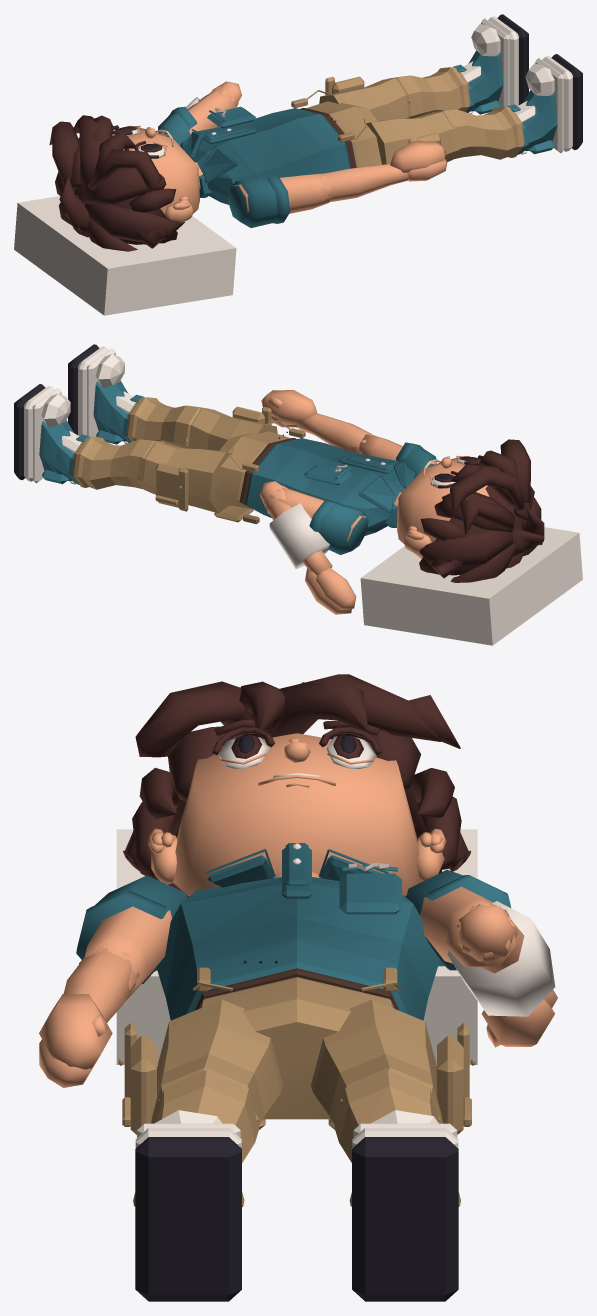
3 renders of one model, top to bottom at view 1: azimuth 30°, elevation 25°; view 2: azimuth 150°, elevation 25°; view 3: azimuth 270°, elevation 25°, orthographic. The views are drawn at different scales.
Visible parts, largest first — view 1: restCushion_pal_picketWhite, head_pal_hairChestnut.001, torso_pal_polo.001, shinR_pal_khaki.001, head_pal_skinWarm.001, legR_pal_khaki.001, footR_pal_picketWhite.001, shinL_pal_khaki.001, footL_pal_picketWhite.001, legL_pal_khaki.001, armR_pal_polo.001, hip_pal_khaki.001 (+11 smaller); view 2: restCushion_pal_picketWhite, head_pal_hairChestnut.001, torso_pal_polo.001, legL_pal_khaki.001, head_pal_skinWarm.001, shinL_pal_khaki.001, hip_pal_khaki.001, footL_pal_picketWhite.001, shinR_pal_khaki.001, footR_pal_picketWhite.001, legR_pal_khaki.001, armL_pal_polo.001 (+13 smaller); view 3: torso_pal_polo.001, head_pal_skinWarm.001, head_pal_hairChestnut.001, footL_pal_uiDark.001, footR_pal_uiDark.001, legR_pal_khaki.001, legL_pal_khaki.001, hip_pal_khaki.001, restCushion_pal_picketWhite, foreArmL_pal_picketWhite.001, handR_pal_skinWarm.001, shinR_pal_khaki.001 (+12 smaller).
Boxes of the visible parts, x1=… form: restCushion_pal_picketWhite: x1=14, y1=196, x2=236, y2=315; head_pal_hairChestnut.001: x1=49, y1=115, x2=184, y2=251; torso_pal_polo.001: x1=180, y1=106, x2=350, y2=204; shinR_pal_khaki.001: x1=432, y1=106, x2=524, y2=159; head_pal_skinWarm.001: x1=112, y1=125, x2=202, y2=222; legR_pal_khaki.001: x1=366, y1=112, x2=460, y2=181; footR_pal_picketWhite.001: x1=515, y1=56, x2=572, y2=154; shinL_pal_khaki.001: x1=387, y1=67, x2=470, y2=118; footL_pal_picketWhite.001: x1=461, y1=16, x2=518, y2=113; legL_pal_khaki.001: x1=319, y1=76, x2=409, y2=120; armR_pal_polo.001: x1=228, y1=176, x2=290, y2=227; hip_pal_khaki.001: x1=291, y1=90, x2=381, y2=167; restCushion_pal_picketWhite: x1=360, y1=527, x2=582, y2=645; head_pal_hairChestnut.001: x1=419, y1=439, x2=544, y2=582; torso_pal_polo.001: x1=245, y1=438, x2=416, y2=535; legL_pal_khaki.001: x1=136, y1=442, x2=230, y2=513; head_pal_skinWarm.001: x1=394, y1=455, x2=489, y2=559; shinL_pal_khaki.001: x1=72, y1=436, x2=164, y2=489; hip_pal_khaki.001: x1=214, y1=420, x2=305, y2=524; footL_pal_picketWhite.001: x1=24, y1=386, x2=81, y2=484; shinR_pal_khaki.001: x1=126, y1=397, x2=209, y2=448; footR_pal_picketWhite.001: x1=78, y1=346, x2=135, y2=443; legR_pal_khaki.001: x1=187, y1=406, x2=277, y2=450; armL_pal_polo.001: x1=309, y1=500, x2=368, y2=554; torso_pal_polo.001: x1=156, y1=843, x2=439, y2=1020; head_pal_skinWarm.001: x1=148, y1=733, x2=446, y2=896; head_pal_hairChestnut.001: x1=123, y1=674, x2=470, y2=898; footL_pal_uiDark.001: x1=352, y1=1137, x2=458, y2=1301; footR_pal_uiDark.001: x1=135, y1=1137, x2=241, y2=1301; legR_pal_khaki.001: x1=118, y1=999, x2=283, y2=1134; legL_pal_khaki.001: x1=311, y1=999, x2=475, y2=1134; hip_pal_khaki.001: x1=193, y1=967, x2=401, y2=1129; restCushion_pal_picketWhite: x1=116, y1=829, x2=477, y2=1064; foreArmL_pal_picketWhite.001: x1=447, y1=901, x2=555, y2=1016; handR_pal_skinWarm.001: x1=39, y1=994, x2=112, y2=1087; shinR_pal_khaki.001: x1=133, y1=1070, x2=259, y2=1206.
Size of the model in its own units: 1.81 by 0.5454 by 0.8318.
